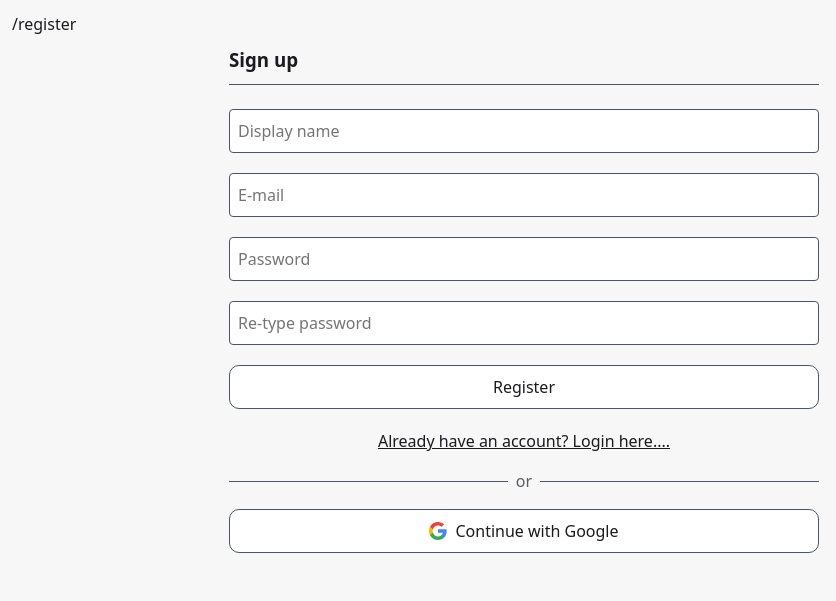
it: RegisterPage › merges server 422 field errors into the form (server wins)
The width and height of the screenshot is (836, 601).
Type "Ada" into the field labelled "Display name" at x=524, y=131, box x1=229 y1=109 x2=819 y2=153
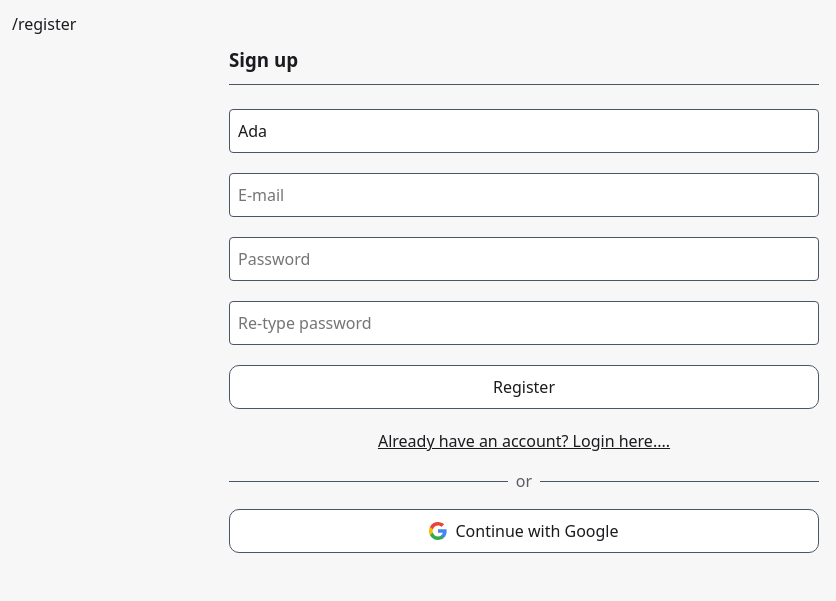
Type "ada@example.com" into the field labelled "E-mail" at x=524, y=195, box x1=229 y1=173 x2=819 y2=217
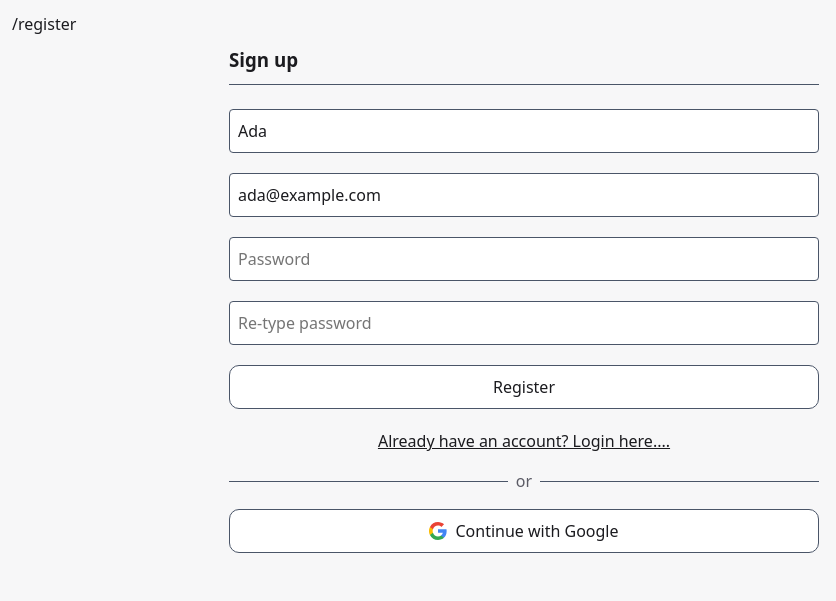
Type "Password1" into the password field labelled "Password" at x=524, y=259, box x1=229 y1=237 x2=819 y2=281
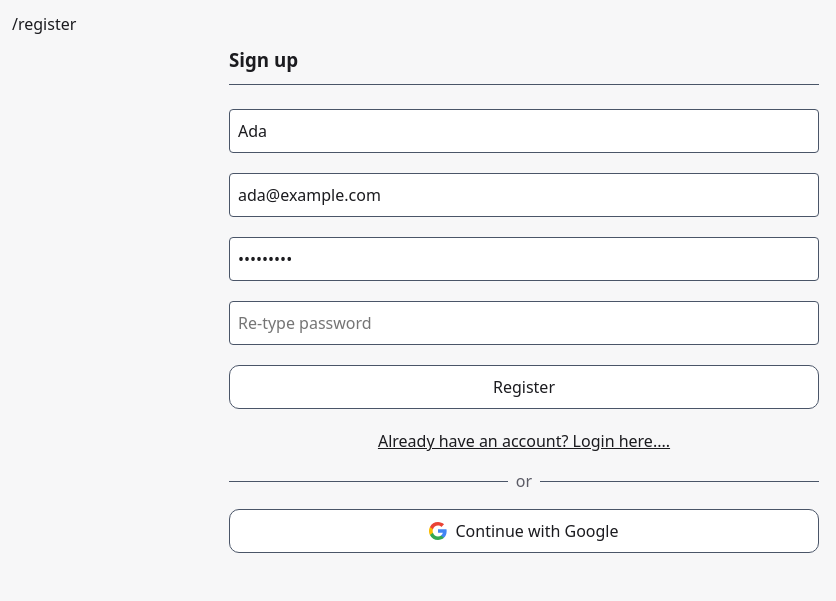
Type "Password1" into the password field labelled "Re-type password" at x=524, y=323, box x1=229 y1=301 x2=819 y2=345
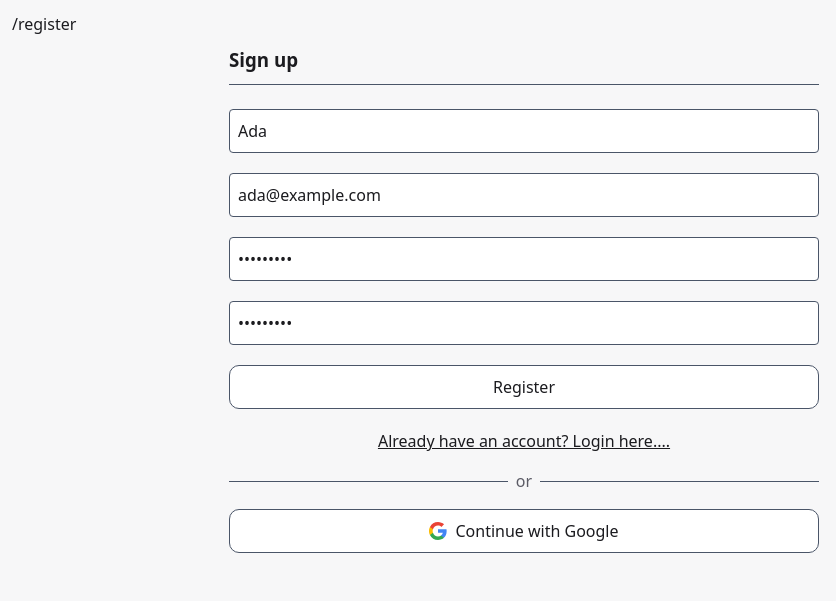
Click the button "Register" at x=524, y=387, box x1=229 y1=365 x2=819 y2=409
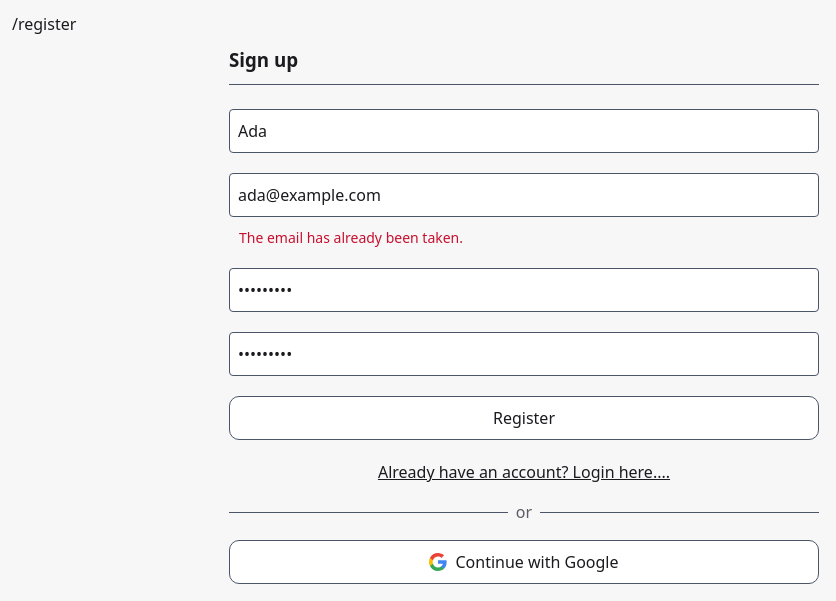
Now the text "The email has already been taken." is shown, box x1=239 y1=228 x2=463 y2=247
